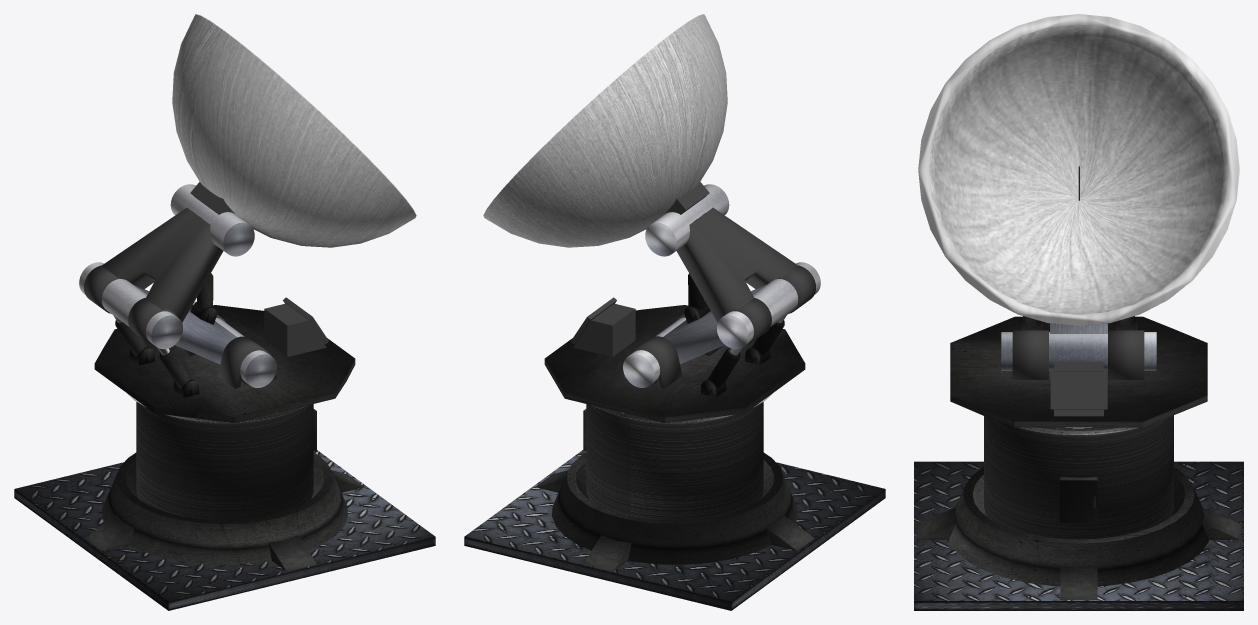
Rendered from Радар.fbx.
The picture shows the model from 3 angles, left to right: view 1: azimuth 30°, elevation 25°; view 2: azimuth 150°, elevation 25°; view 3: azimuth 270°, elevation 25°; orthographic projection. The views are drawn at different scales.
Visible parts, largest first — view 1: Sphere, Cube, Cylinder, Cube.005, Cylinder.001, Cube.007, Cylinder.006, Cylinder.011, Cube.010, Cube.006, Cylinder.005, Cylinder.007 (+6 smaller); view 2: Sphere, Cube, Cylinder, Cube.005, Cylinder.001, Cube.007, Cylinder.006, Cylinder.011, Cube.010, Cube.006, Cylinder.005, Cylinder.008 (+6 smaller); view 3: Sphere, Cube, Cylinder, Cube.005, Cylinder.001, Cylinder.005, Cube.011, Cylinder.008, Cylinder.007, Cube.012, Cube.001, Cube.003 (+3 smaller).
Part boxes in pixels (x1,y1,x2,y2): Sphere: [172, 14, 416, 247]; Cube: [14, 450, 435, 610]; Cylinder: [136, 402, 313, 520]; Cube.005: [94, 305, 355, 422]; Cylinder.001: [102, 452, 347, 564]; Cube.007: [101, 207, 223, 322]; Cylinder.006: [79, 262, 182, 349]; Cylinder.011: [170, 184, 254, 256]; Cube.010: [264, 303, 308, 356]; Cube.006: [134, 285, 237, 364]; Cylinder.005: [193, 301, 276, 387]; Cylinder.007: [218, 336, 276, 388]; Sphere: [483, 14, 727, 247]; Cube: [464, 450, 885, 610]; Cylinder: [586, 402, 763, 520]; Cube.005: [544, 305, 805, 422]; Cylinder.001: [552, 452, 797, 564]; Cube.007: [676, 207, 798, 322]; Cylinder.006: [717, 262, 820, 349]; Cylinder.011: [645, 184, 729, 256]; Cube.010: [591, 303, 635, 356]; Cube.006: [663, 285, 765, 364]; Cylinder.005: [623, 317, 686, 387]; Cylinder.008: [623, 336, 681, 388]; Sphere: [918, 14, 1239, 325]; Cube: [914, 461, 1243, 610]; Cylinder: [984, 415, 1173, 539]; Cube.005: [950, 316, 1207, 427]; Cylinder.001: [949, 467, 1208, 586]; Cylinder.005: [1001, 332, 1156, 370]; Cube.011: [1050, 369, 1107, 409]; Cylinder.008: [1108, 330, 1144, 379]; Cylinder.007: [1012, 330, 1048, 379]; Cube.012: [1059, 477, 1097, 523]; Cube.001: [1060, 566, 1097, 599]; Cube.003: [917, 507, 956, 539].
Bounding box in the file's own units: 193 × 307 × 174.
6 materials, 5 textured.
